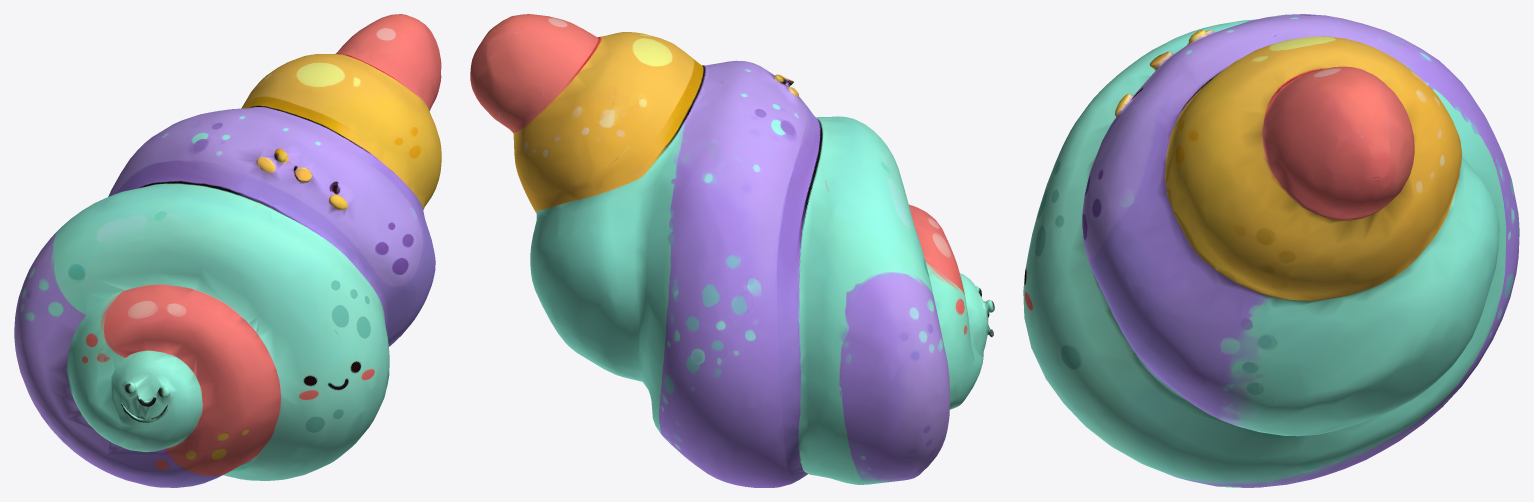
File: static.glb
3 renders of one model, left to right at view 1: azimuth 30°, elevation 25°; view 2: azimuth 150°, elevation 25°; view 3: azimuth 270°, elevation 25°, orthographic. The views are drawn at different scales.
Parts seen in each view (by area): view 1: Mesh_0; view 2: Mesh_0; view 3: Mesh_0.
Part boxes in pixels (x1,y1,x2,y2): Mesh_0: (14, 14, 441, 487); Mesh_0: (470, 14, 994, 487); Mesh_0: (1023, 14, 1519, 487).
Size of the model in its own units: 1.9 by 1.66 by 1.43.
1 material, 1 textured.
